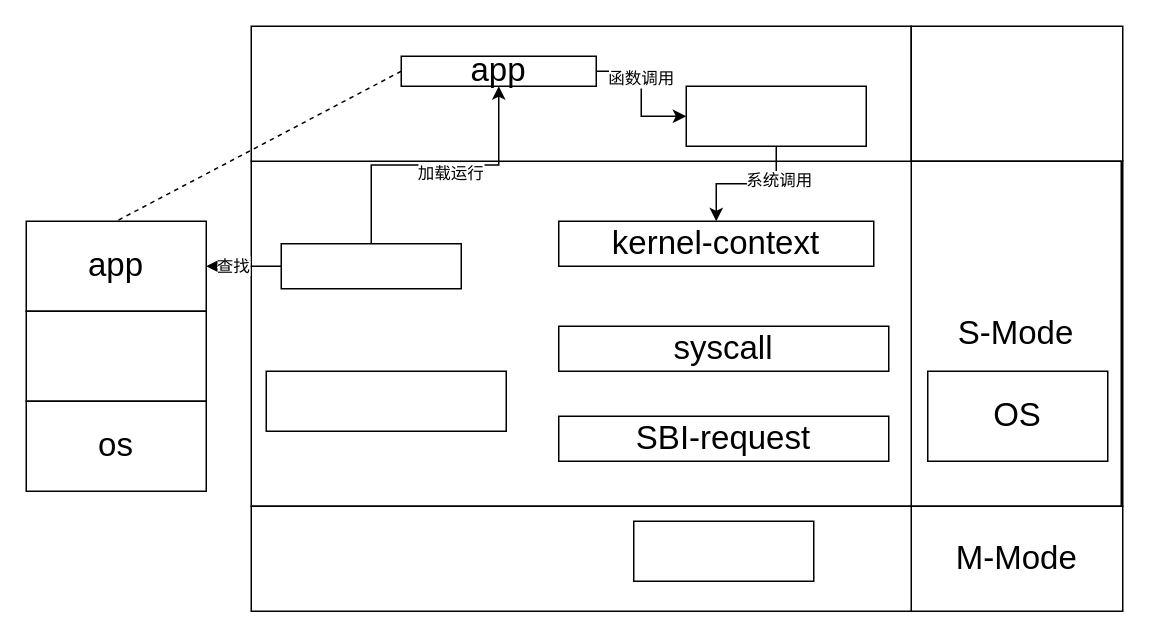
The diagram is 1149 pixels wide and 638 high, and some of its shapes have lost their labels. Each missing label, with the centre of its shape:
console: the point at 385,400
lib: the point at 775,115
linker: the point at 370,265
SBI-server: the point at 723,550
U-Mode: the point at 1016,93
